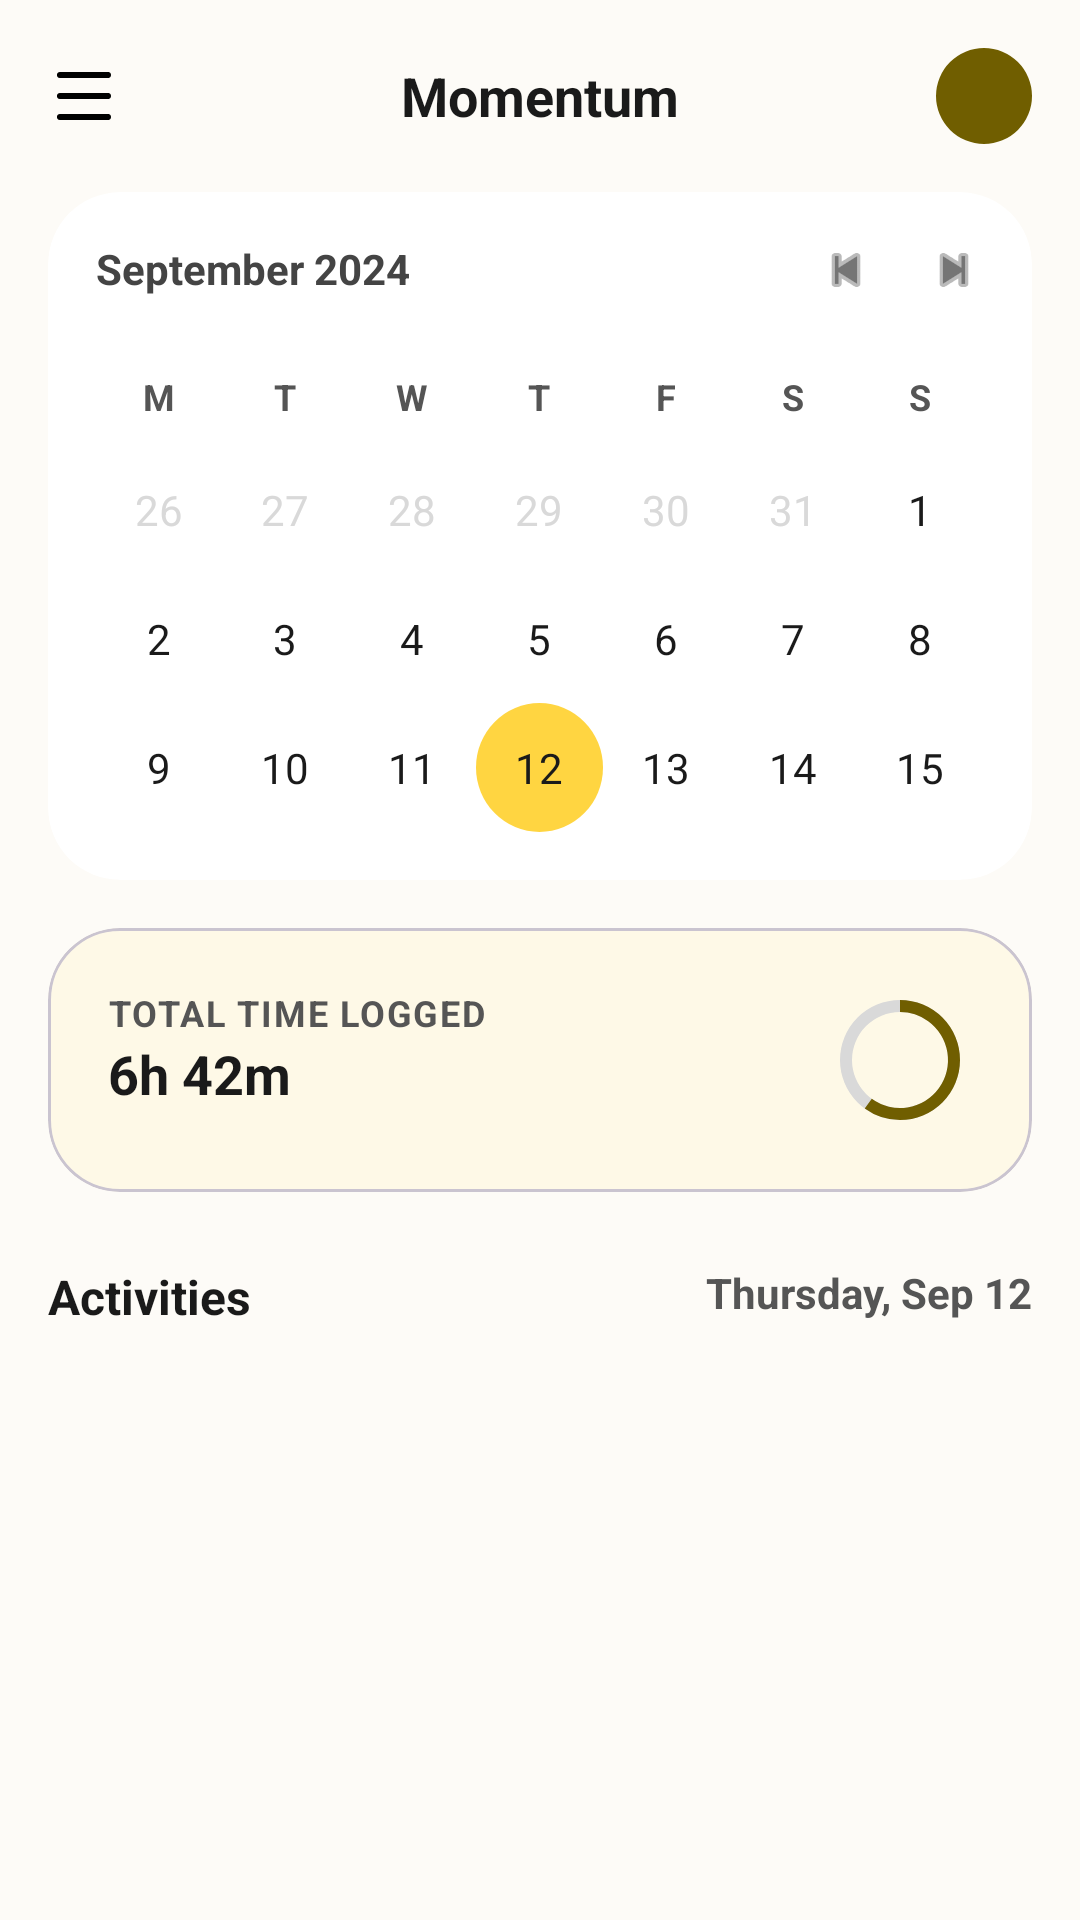

Icons on this 1080w x 1920h Android screen, each with the point to tap as [x,y]:
menu: [84,96]
next: [954,270]
previous: [846,270]
